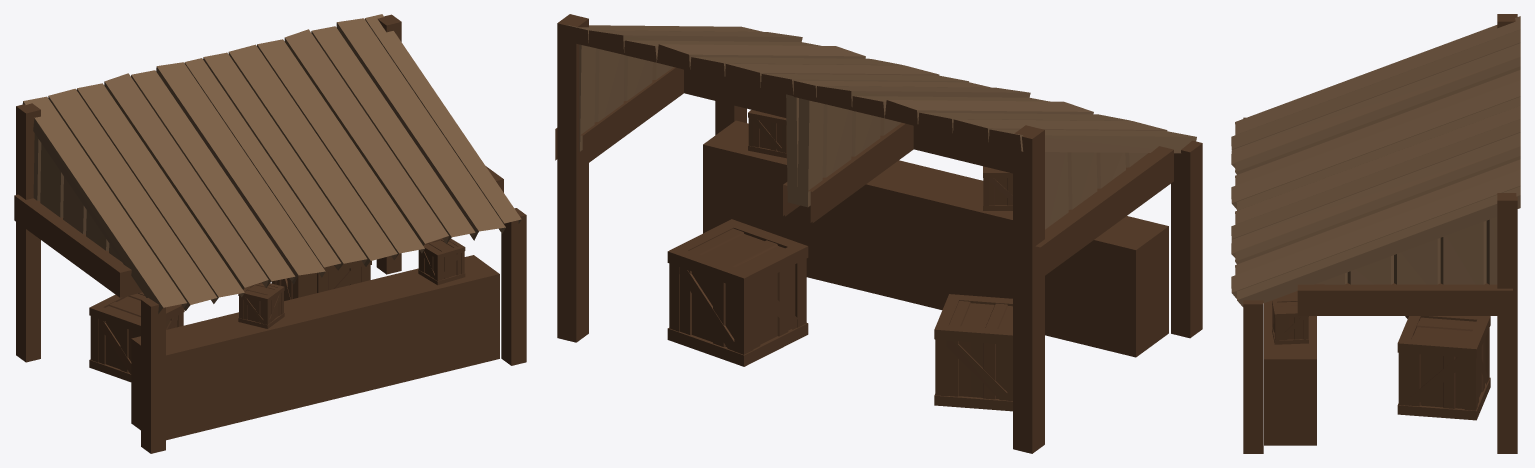
Rendered from stall.obj.
The picture shows the model from 3 angles, left to right: view 1: azimuth 30°, elevation 25°; view 2: azimuth 150°, elevation 25°; view 3: azimuth 270°, elevation 25°; orthographic projection. The views are drawn at different scales.
Bounding box in the file's own units: 4.26 × 2.69 × 2.73.
